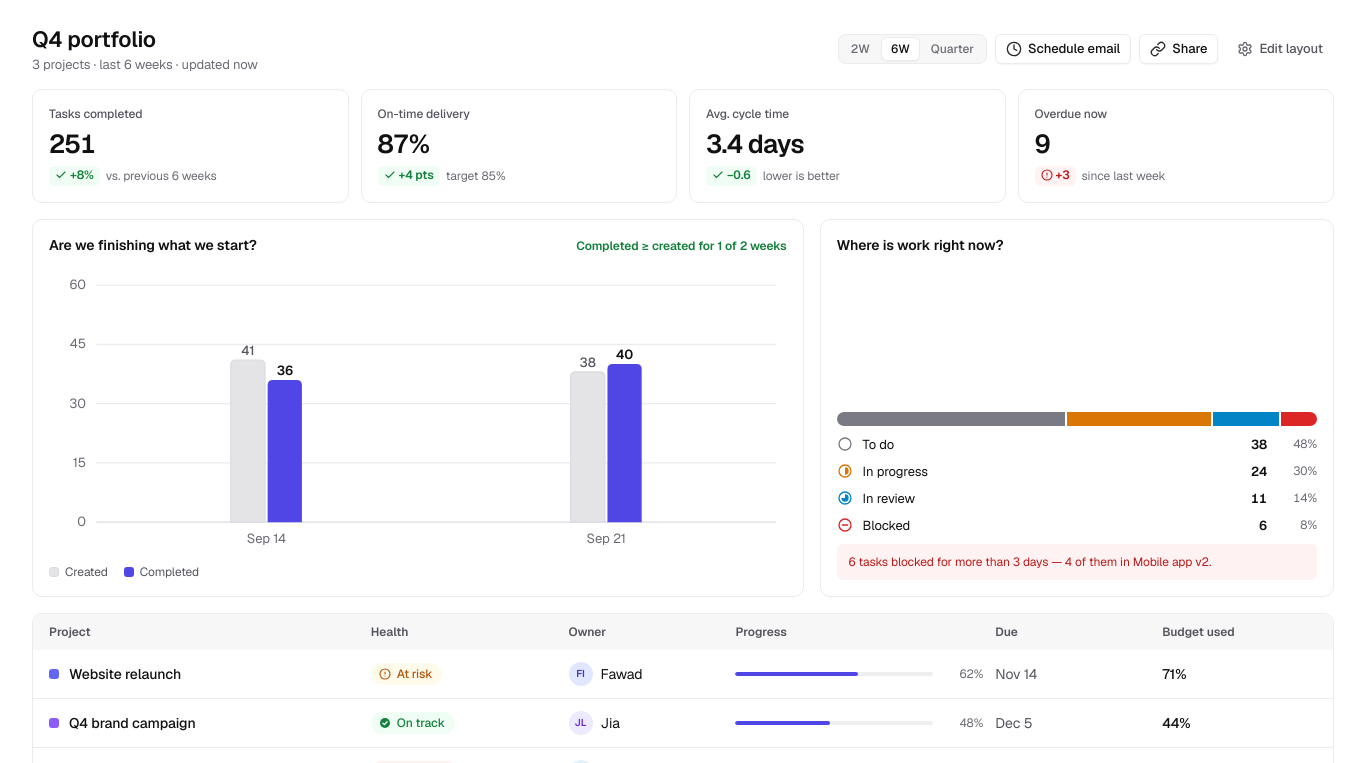
Test: DashboardPage › opens the upgrade prompt when saving the layout hits the plan limit
Expected: the text "251" is shown, [49,127,96,161]
What coordinates should you click on to do the following:
click the button "Edit layout"
I would click on:
 (1280, 48)
Its box is [1226,34,1334,64].
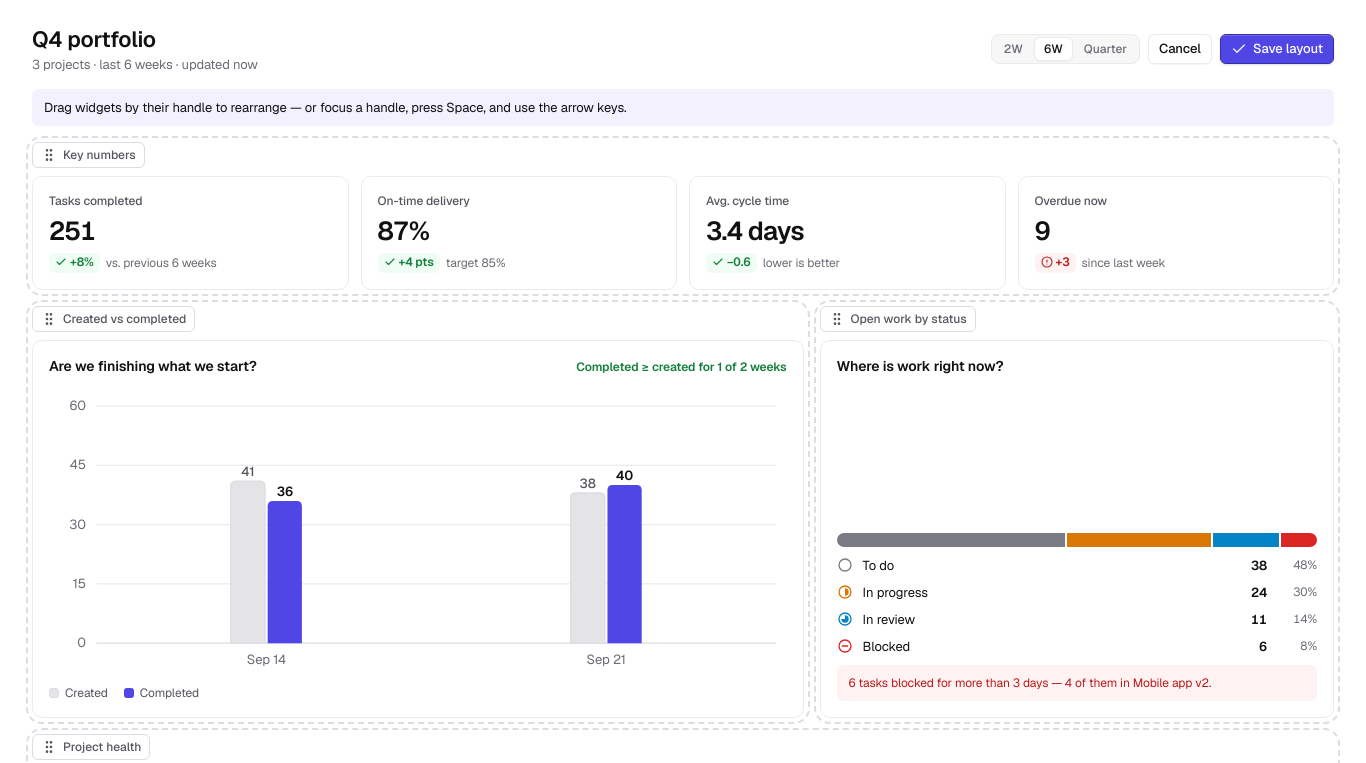
Now the button with aria-label "Move Project health" is shown, box [32,734,150,760]
What coordinates should you click on to do the following:
click the button "Save layout"
I would click on:
 (1277, 48)
Its box is [1220,34,1334,64].
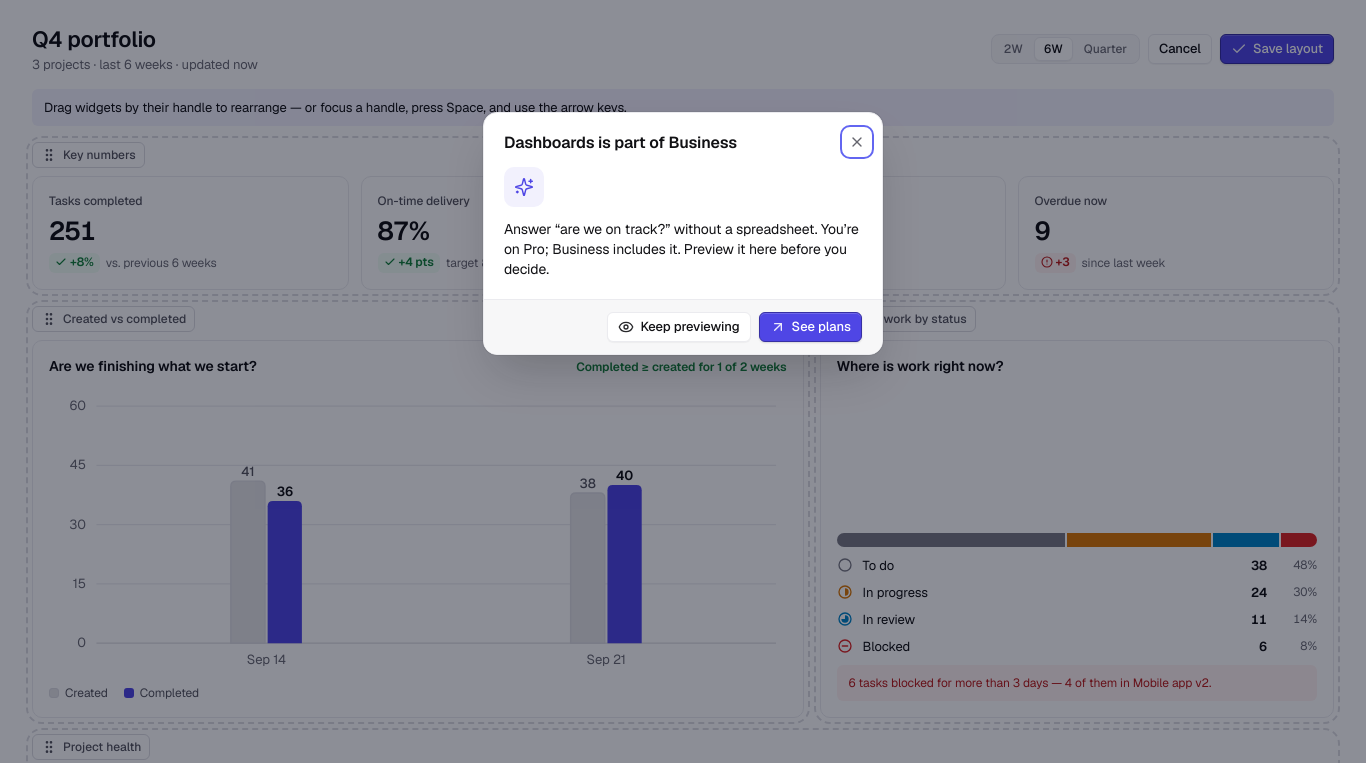
Now the dialog "Dashboards is part of Business" is shown, box [483,112,883,355]
Now the text "without a spreadsheet" is shown, box [504,220,818,238]
